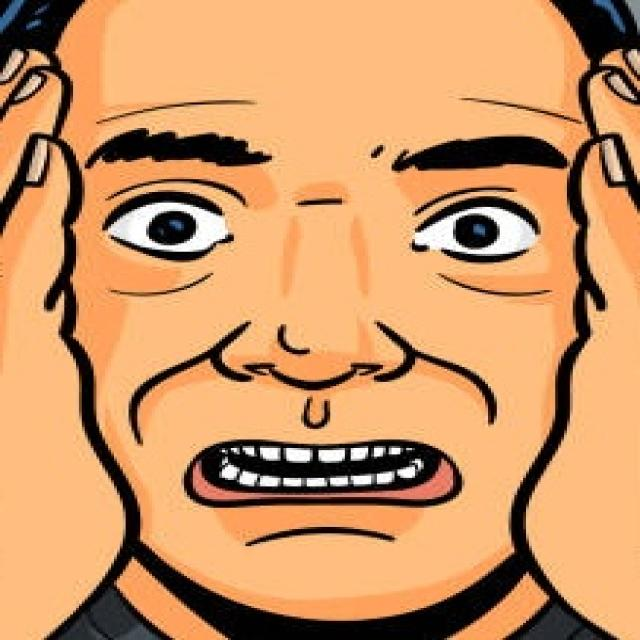Anxiety: (20, 2, 637, 622)
